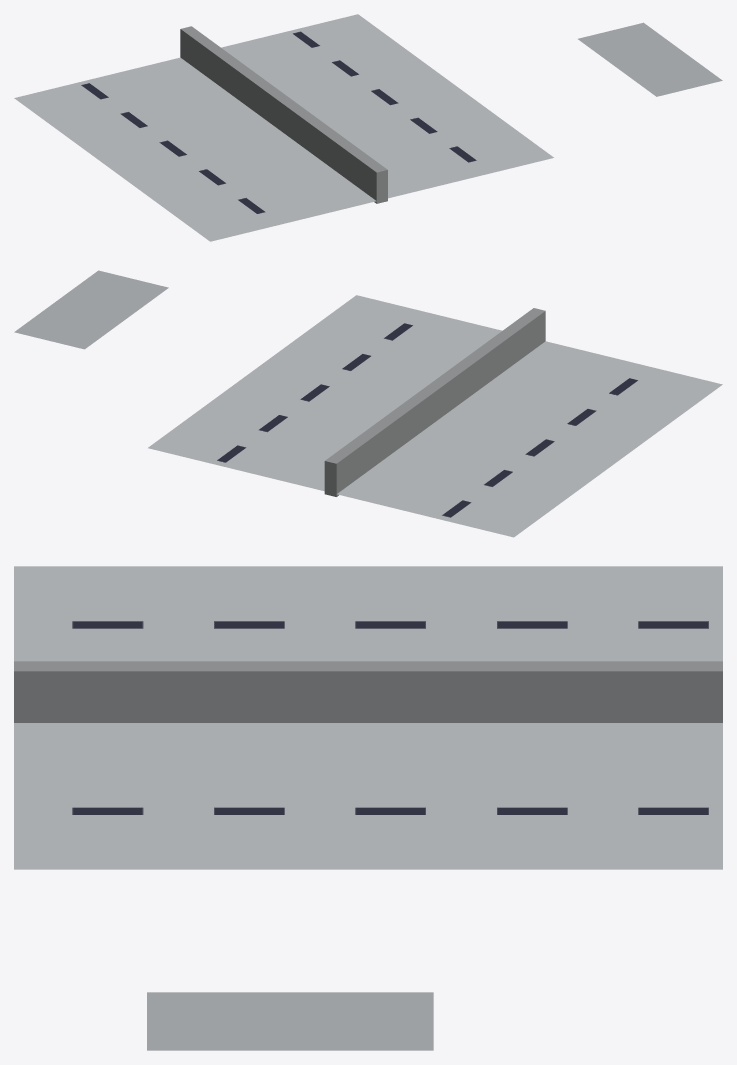
The model's file is Road.fbx.
3 renders of one model, top to bottom at view 1: azimuth 30°, elevation 25°; view 2: azimuth 150°, elevation 25°; view 3: azimuth 270°, elevation 25°, orthographic. The views are drawn at different scales.
Parts seen in each view (by area): view 1: Road, Road_Mini; view 2: Road, Road_Mini; view 3: Road, Road_Mini.
Boxes of the visible parts, <box> form: Road: <box>14,14,553,241</box>; Road_Mini: <box>578,22,722,96</box>; Road: <box>148,295,722,537</box>; Road_Mini: <box>14,270,168,349</box>; Road: <box>14,566,722,869</box>; Road_Mini: <box>147,992,433,1050</box>.
Size of the model in its own units: 800 by 43.62 by 495.
